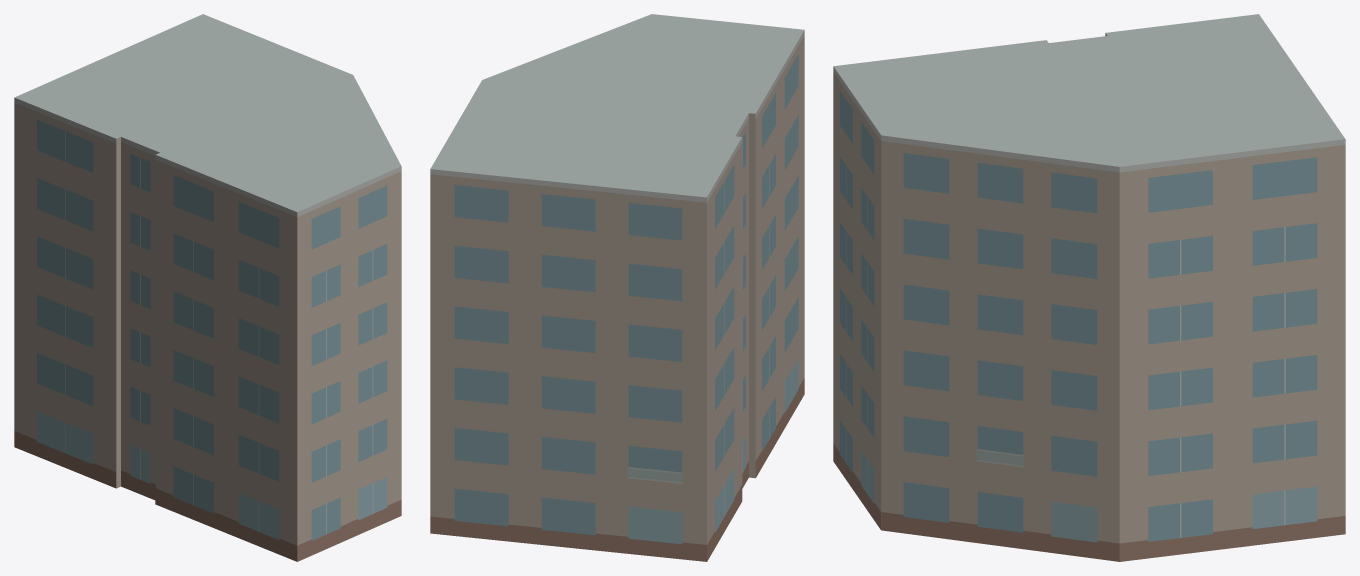
Rendered from survey-upis-32656233.glb.
3 renders of one model, left to right at view 1: azimuth 30°, elevation 25°; view 2: azimuth 150°, elevation 25°; view 3: azimuth 270°, elevation 25°, orthographic. The views are drawn at different scales.
Parts seen in each view (by area): view 1: survey-upis-32656233.tmp; view 2: survey-upis-32656233.tmp; view 3: survey-upis-32656233.tmp.
Boxes of the visible parts, left/top/right/bottom form: survey-upis-32656233.tmp: left=14, top=14, right=401, bottom=561; survey-upis-32656233.tmp: left=430, top=14, right=804, bottom=561; survey-upis-32656233.tmp: left=833, top=14, right=1345, bottom=561.
Bounding box in the file's own units: 14.29 × 17.2 × 20.22.
